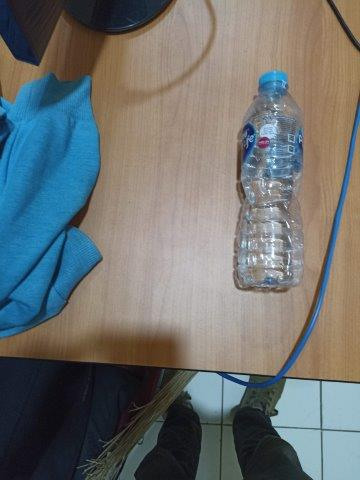botolplastik: (238, 71, 303, 290)
